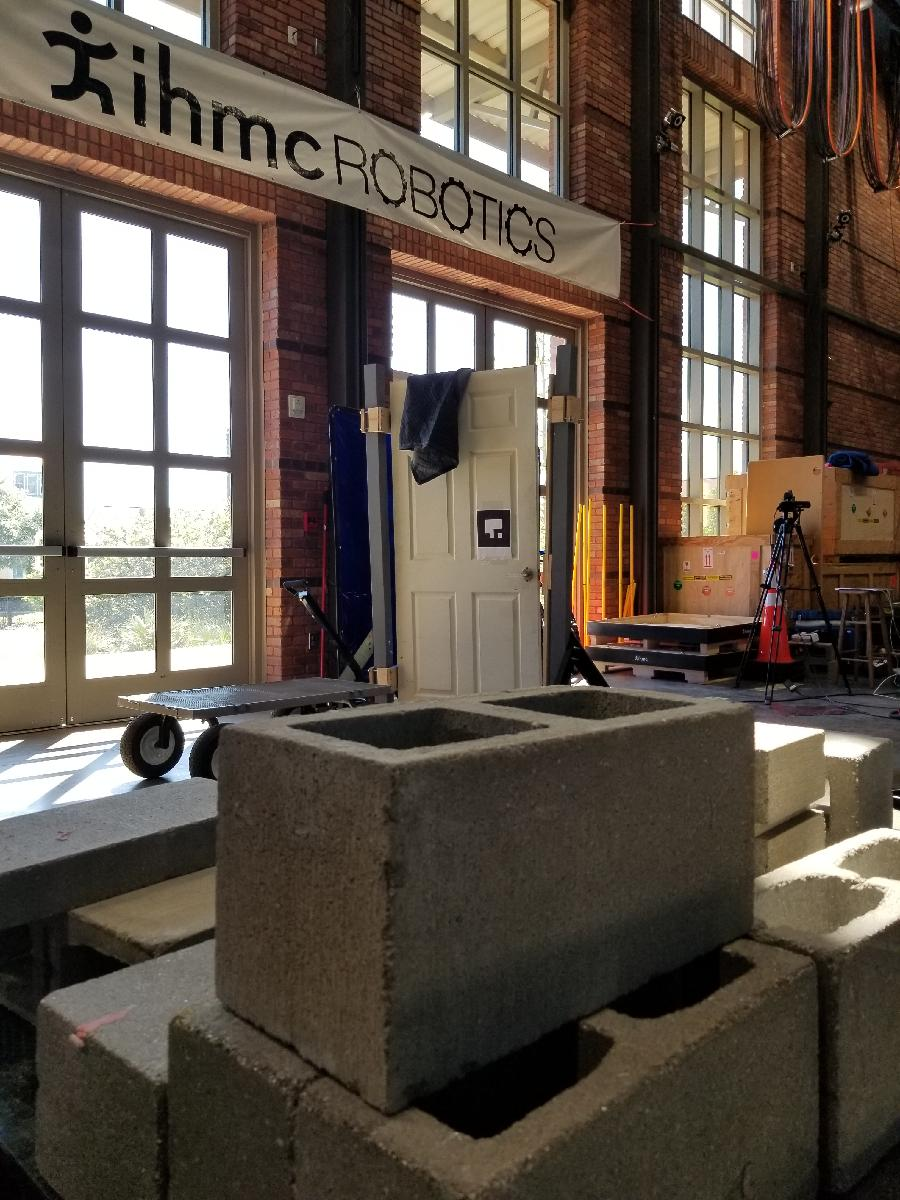door: (390, 361, 550, 740)
doorHandle: (510, 570, 536, 587)
